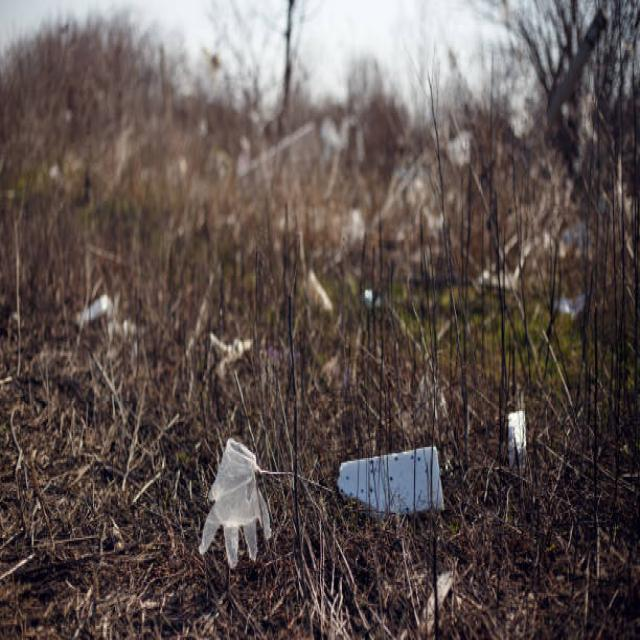plastic: (175, 428, 276, 579)
